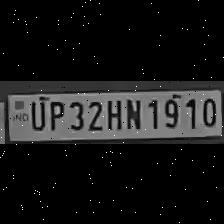0: (198, 94, 218, 126)
1: (143, 95, 161, 129), (180, 94, 198, 128)
2: (84, 96, 104, 132)
3: (65, 96, 84, 130)
9: (160, 94, 178, 128)
H: (104, 96, 122, 130)
N: (122, 96, 142, 130)
P: (46, 96, 64, 132)
U: (27, 96, 46, 130)
